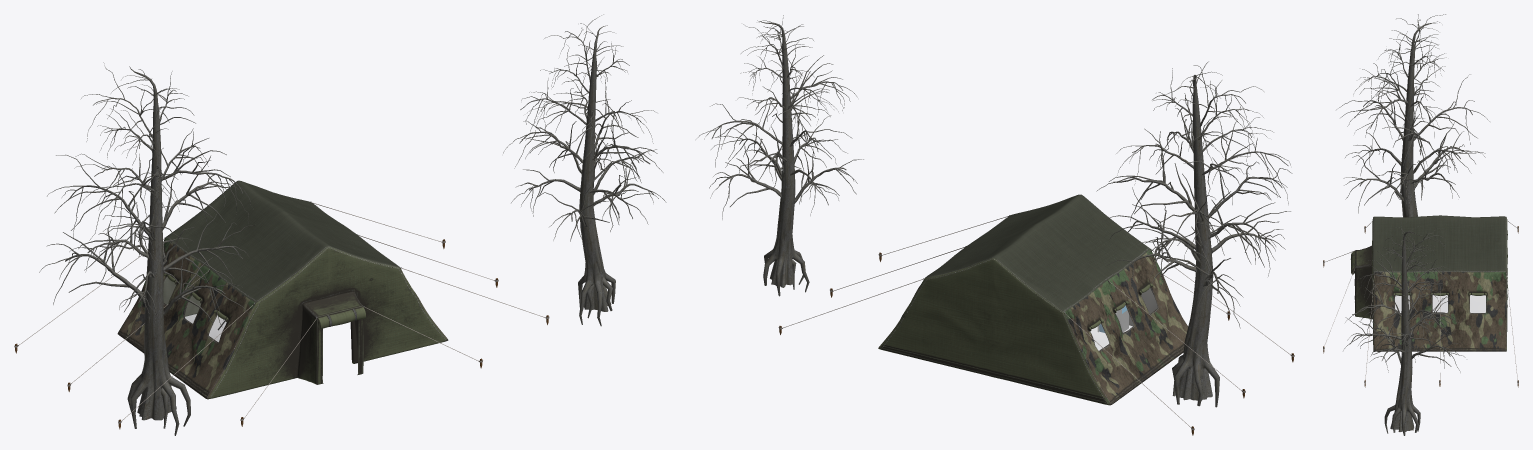
File: tent.glb
3 renders of one model, left to right at view 1: azimuth 30°, elevation 25°; view 2: azimuth 150°, elevation 25°; view 3: azimuth 270°, elevation 25°, orthographic. The views are drawn at different scales.
Parts seen in each view (by area): view 1: Military_tent, Linden_LOD0, Linden_LOD0_M_Bark.005_0.001; view 2: Military_tent, Linden_LOD0, Linden_LOD0_M_Bark.005_0.001; view 3: Military_tent, Linden_LOD0, Linden_LOD0_M_Bark.005_0.001.
Part boxes in pixels (x1,y1,x2,y2): Military_tent: (14, 180, 549, 429); Linden_LOD0: (39, 62, 254, 435); Linden_LOD0_M_Bark.005_0.001: (503, 14, 666, 326); Military_tent: (778, 194, 1294, 435); Linden_LOD0: (1096, 61, 1292, 407); Linden_LOD0_M_Bark.005_0.001: (698, 15, 863, 296); Military_tent: (1323, 215, 1518, 387); Linden_LOD0: (1336, 14, 1489, 217); Linden_LOD0_M_Bark.005_0.001: (1343, 223, 1465, 435).
Bounding box in the file's own units: 29.4 × 17.13 × 11.6.
55 materials, 3 textured.
